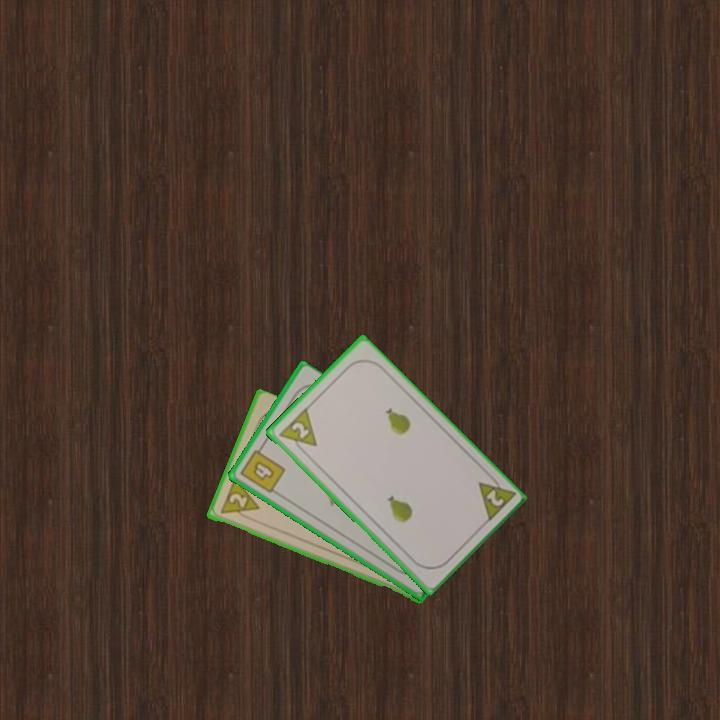2p: (275, 405, 320, 458), (474, 470, 517, 525), (216, 476, 262, 523)
4b: (237, 442, 288, 496)
